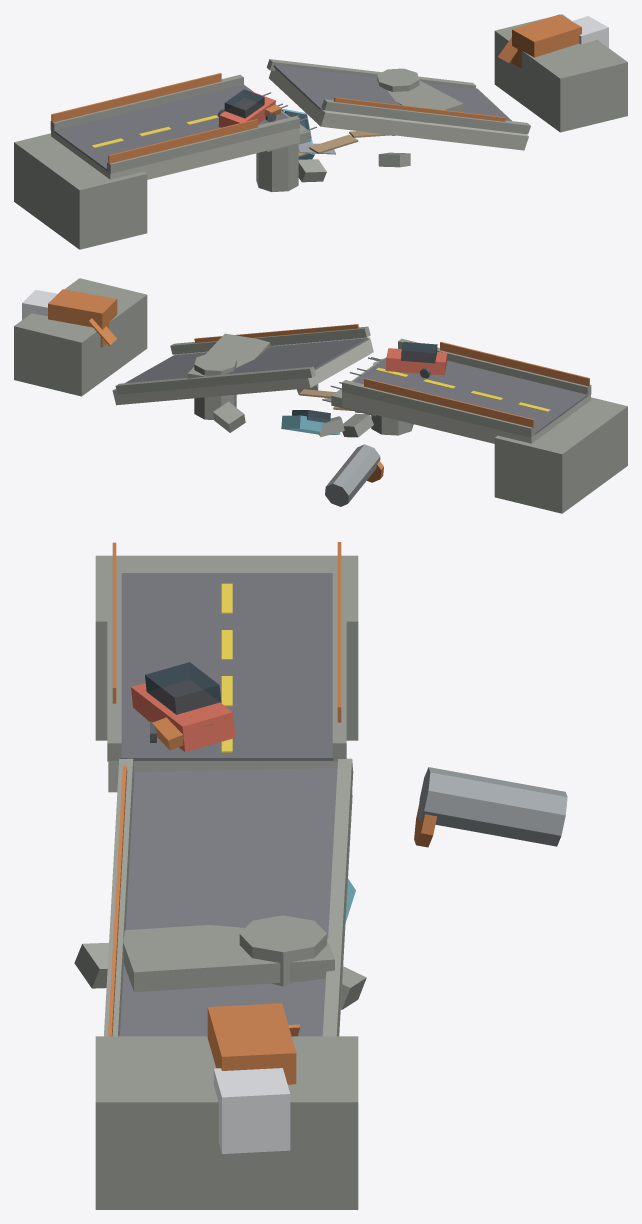
Rendered from broken_span.glb.
3 views of the same model, one above another, from view 1: azimuth 30°, elevation 25°; view 2: azimuth 150°, elevation 25°; view 3: azimuth 270°, elevation 25° (orthographic). The views are drawn at different scales.
Parts seen in each view (by area): view 1: Bridge_Abutment_West, Bridge_Abutment_East, Bridge_Standing_Asphalt, Bridge_Collapsed_Deck, Bridge_Collapsed_Asphalt, Bridge_Standing_Deck, Bridge_CurbW_S, Bridge_Collapsed_CurbS, Truck_East_CargoBox, Bridge_CurbW_N, Bridge_Pier_West, Bridge_GuardrailW_N (+11 smaller); view 2: Bridge_Abutment_West, Bridge_Abutment_East, Bridge_Standing_Asphalt, Bridge_Collapsed_Asphalt, Bridge_Collapsed_Deck, Bridge_Standing_Deck, Bridge_Collapsed_CurbN, Bridge_CurbW_N, Truck_East_CargoBox, Culvert_DrainagePipe, Bridge_GuardrailW_N, Bridge_Collapsed_CurbS (+14 smaller); view 3: Bridge_Collapsed_Asphalt, Bridge_Abutment_East, Bridge_Standing_Asphalt, Bridge_PierCap_East, Bridge_Abutment_West, Culvert_DrainagePipe, Truck_East_Cab, Truck_East_CargoBox, Bridge_Collapsed_CurbN, Bridge_Pier_East, Bridge_Collapsed_CurbS, Car_Standing_Body (+7 smaller).
Boxes of the visible parts, left/top/right/bottom form: Bridge_Abutment_West: left=14, top=133, right=147, bottom=249; Bridge_Abutment_East: left=494, top=14, right=627, bottom=132; Bridge_Standing_Asphalt: left=54, top=84, right=288, bottom=170; Bridge_Collapsed_Deck: left=269, top=69, right=528, bottom=150; Bridge_Collapsed_Asphalt: left=273, top=65, right=511, bottom=120; Bridge_Standing_Deck: left=51, top=127, right=299, bottom=179; Bridge_CurbW_S: left=107, top=116, right=299, bottom=173; Bridge_Collapsed_CurbS: left=321, top=99, right=530, bottom=134; Truck_East_CargoBox: left=512, top=14, right=581, bottom=68; Bridge_CurbW_N: left=50, top=74, right=243, bottom=131; Bridge_Pier_West: left=256, top=116, right=298, bottom=191; Bridge_GuardrailW_N: left=51, top=73, right=221, bottom=122; Bridge_Abutment_West: left=494, top=397, right=627, bottom=513; Bridge_Abutment_East: left=14, top=278, right=147, bottom=396; Bridge_Standing_Asphalt: left=353, top=348, right=587, bottom=434; Bridge_Collapsed_Asphalt: left=125, top=338, right=368, bottom=383; Bridge_Collapsed_Deck: left=112, top=337, right=373, bottom=405; Bridge_Standing_Deck: left=342, top=391, right=590, bottom=443; Bridge_Collapsed_CurbN: left=115, top=366, right=315, bottom=394; Bridge_CurbW_N: left=342, top=380, right=534, bottom=437; Truck_East_CargoBox: left=48, top=289, right=117, bottom=347; Culvert_DrainagePipe: left=325, top=444, right=380, bottom=506; Bridge_GuardrailW_N: left=364, top=378, right=534, bottom=427; Bridge_Collapsed_CurbS: left=170, top=326, right=370, bottom=354; Bridge_Collapsed_Asphalt: left=120, top=768, right=337, bottom=1036; Bridge_Abutment_East: left=95, top=1036, right=358, bottom=1209; Bridge_Standing_Asphalt: left=120, top=573, right=333, bottom=761; Bridge_PierCap_East: left=123, top=925, right=334, bottom=992; Bridge_Abutment_West: left=95, top=555, right=358, bottom=740; Culvert_DrainagePipe: left=418, top=767, right=567, bottom=846; Truck_East_Cab: left=213, top=1068, right=290, bottom=1153; Truck_East_CargoBox: left=207, top=1003, right=296, bottom=1084; Bridge_Collapsed_CurbN: left=322, top=758, right=353, bottom=1036; Bridge_Pier_East: left=239, top=915, right=326, bottom=986; Bridge_Collapsed_CurbS: left=104, top=758, right=134, bottom=1036; Car_Standing_Body: left=131, top=683, right=235, bottom=752.
Size of the model in its own units: 41.42 by 7.15 by 15.78.
